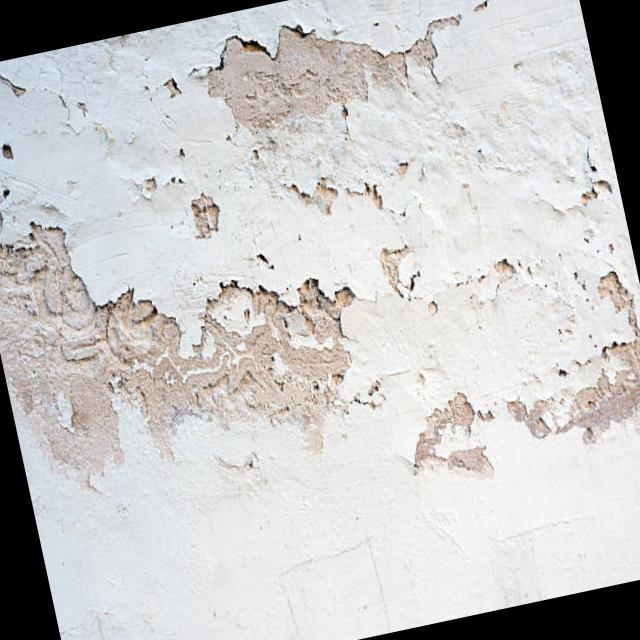crack: (200, 12, 326, 74)
